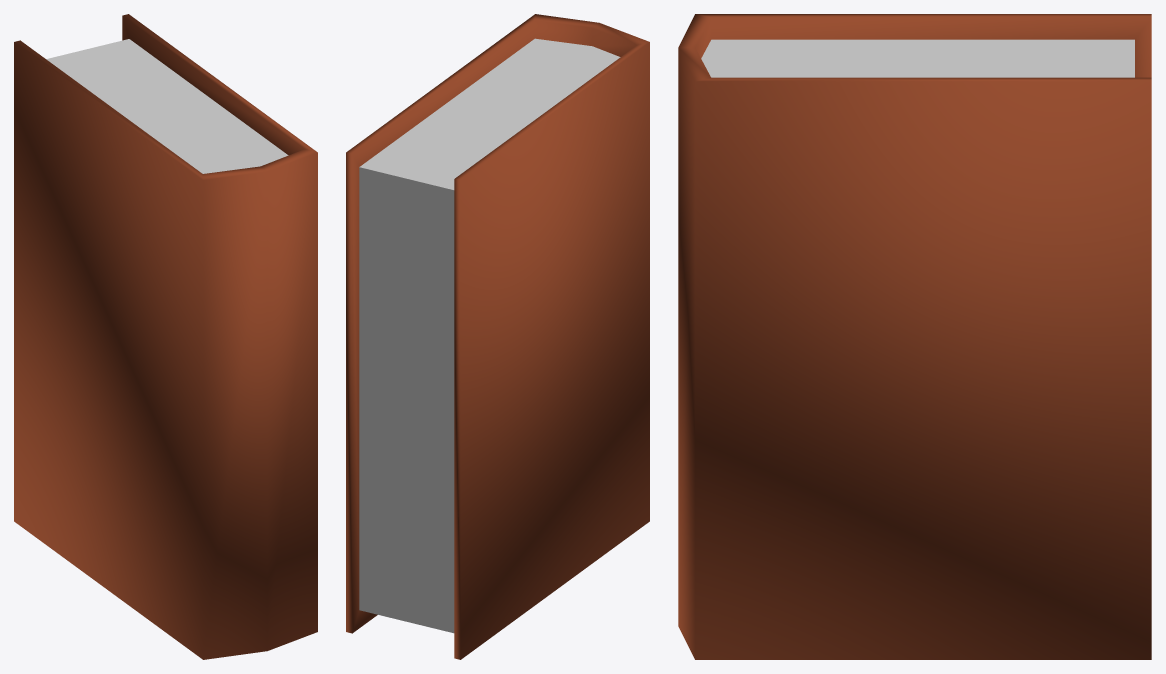
The model's file is Red_book.dae.
3 renders of one model, left to right at view 1: azimuth 30°, elevation 25°; view 2: azimuth 150°, elevation 25°; view 3: azimuth 270°, elevation 25°, orthographic. The views are drawn at different scales.
Parts seen in each view (by area): view 1: Book_Wine_medium; view 2: Book_Wine_medium; view 3: Book_Wine_medium.
Boxes of the visible parts, x1,y1,x2,y2 form: Book_Wine_medium: (14, 14, 317, 659); Book_Wine_medium: (346, 14, 649, 659); Book_Wine_medium: (678, 14, 1151, 659).
Size of the model in its own units: 0.05 by 0.1483 by 0.2.
